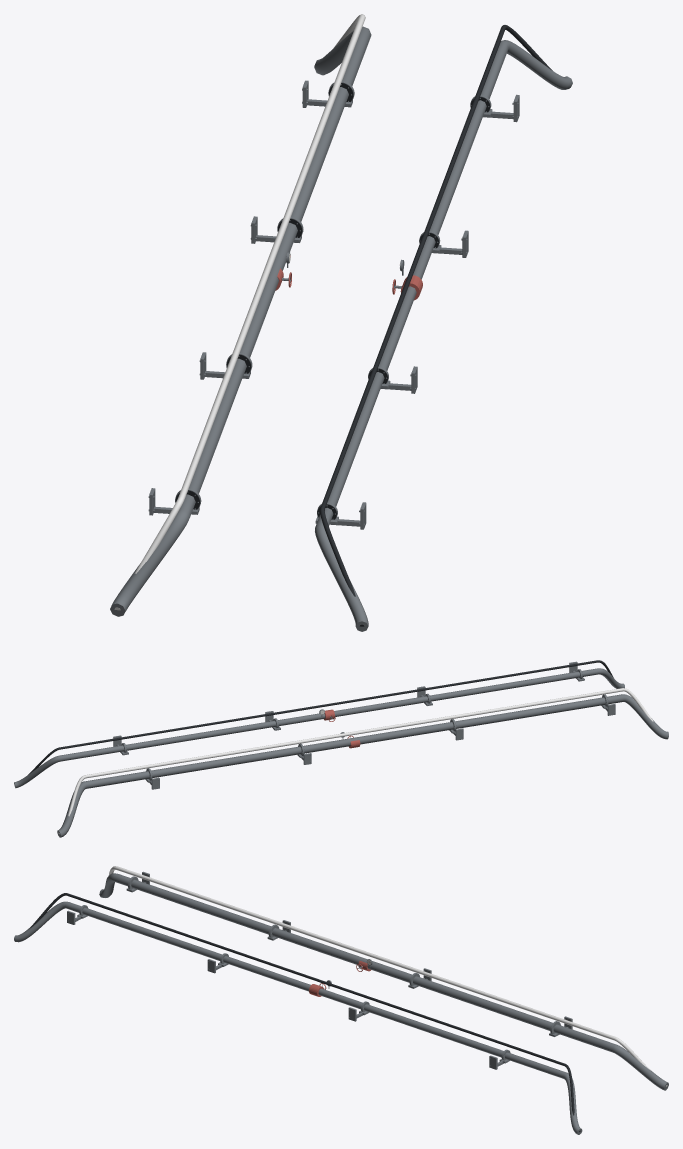
Rendered from BD_T16_UpperProcessLines.fbx.
The picture shows the model from 3 angles, top to bottom: view 1: azimuth 30°, elevation 25°; view 2: azimuth 150°, elevation 25°; view 3: azimuth 270°, elevation 25°; orthographic projection. The views are drawn at different scales.
Parts seen in each view (by area): view 1: BD_T16_UpperProcessLines; view 2: BD_T16_UpperProcessLines; view 3: BD_T16_UpperProcessLines.
Part boxes in pixels (bbox=[...]): BD_T16_UpperProcessLines: bbox=[110, 14, 572, 631]; BD_T16_UpperProcessLines: bbox=[14, 660, 668, 837]; BD_T16_UpperProcessLines: bbox=[14, 866, 668, 1134].
Size of the model in its own units: 1887 by 189 by 2168.
